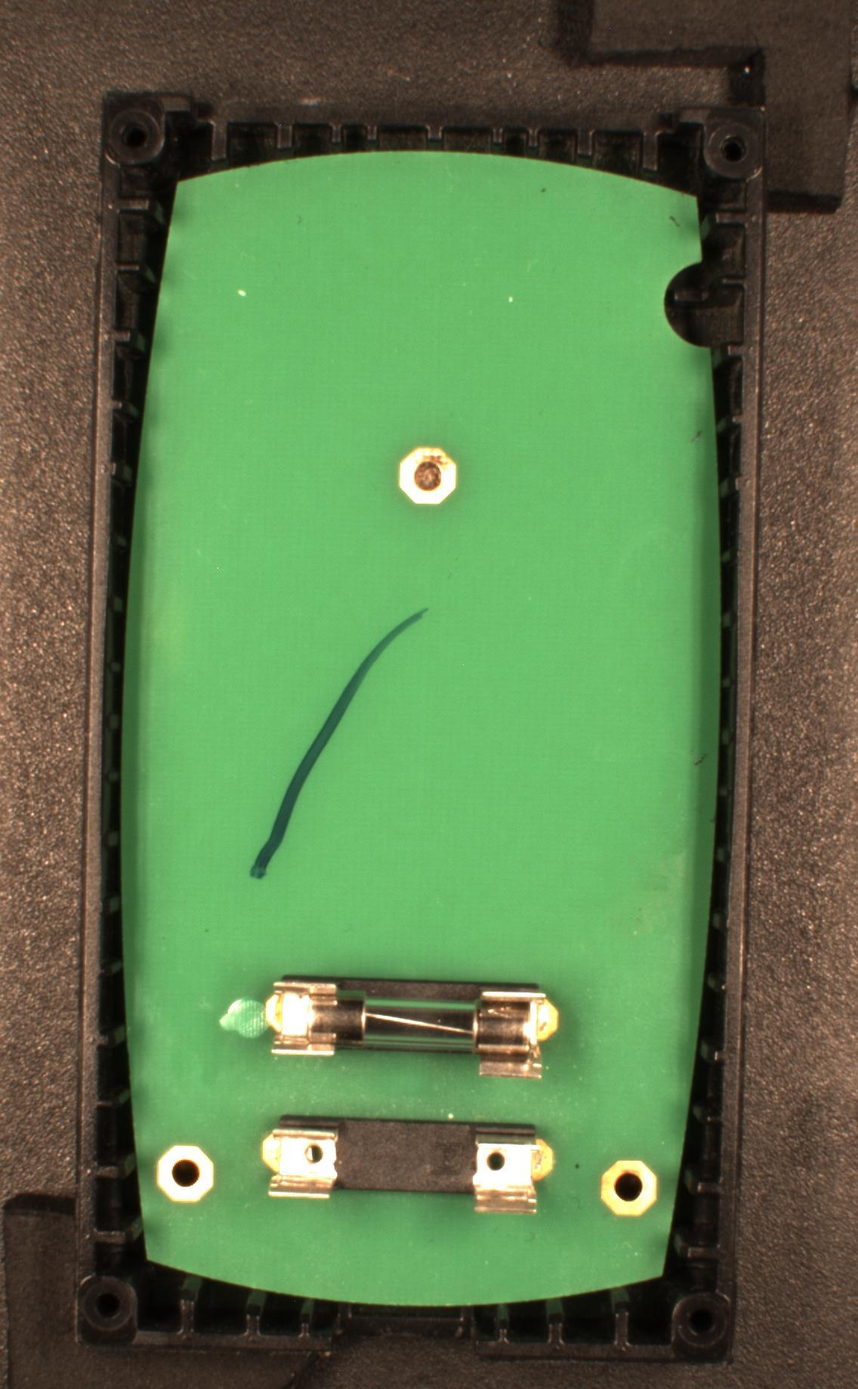Linijsko Ostecene: (248, 606, 433, 883)
Nepostojanje osiguraca: (259, 1113, 555, 1215)
